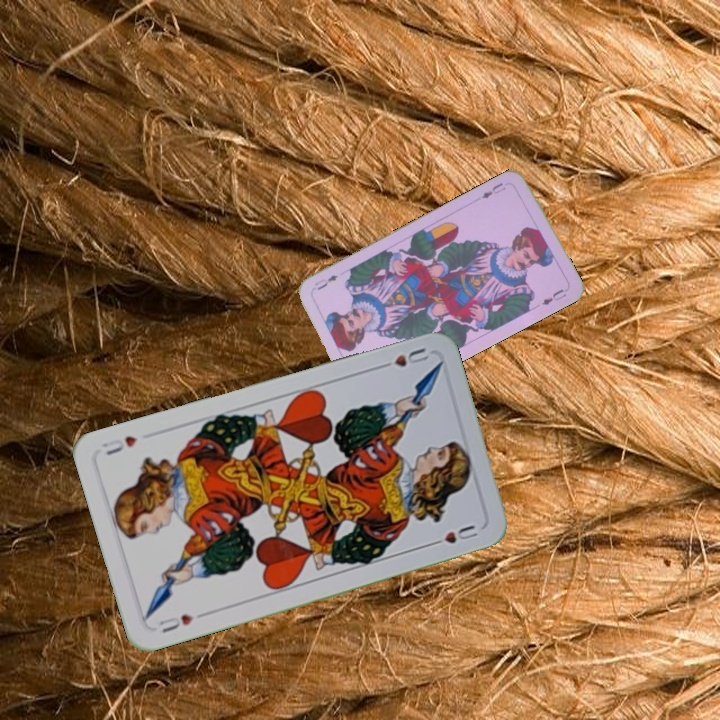EU: (477, 179, 508, 201)
HU: (374, 344, 431, 371), (154, 610, 196, 636)
